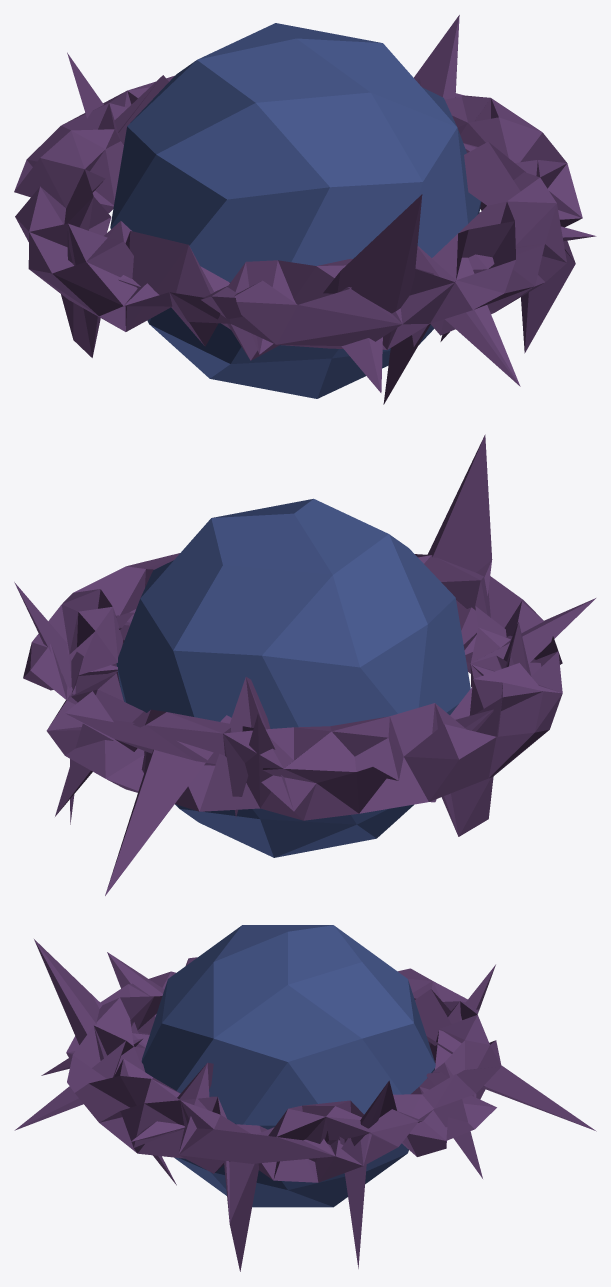
The model's file is planet4.fbx.
3 views of the same model, one above another, from view 1: azimuth 30°, elevation 25°; view 2: azimuth 150°, elevation 25°; view 3: azimuth 270°, elevation 25° (orthographic). The views are drawn at different scales.
Parts seen in each view (by area): view 1: Torus, Icosphere; view 2: Torus, Icosphere; view 3: Torus, Icosphere.
Boxes of the visible parts, x1=… form: Torus: x1=14, y1=15, x2=596, y2=404; Icosphere: x1=110, y1=23, x2=481, y2=398; Torus: x1=14, y1=434, x2=595, y2=895; Icosphere: x1=116, y1=498, x2=470, y2=857; Torus: x1=14, y1=939, x2=596, y2=1271; Icosphere: x1=141, y1=925, x2=435, y2=1207.
Bounding box in the file's own units: 483 × 324 × 637.
